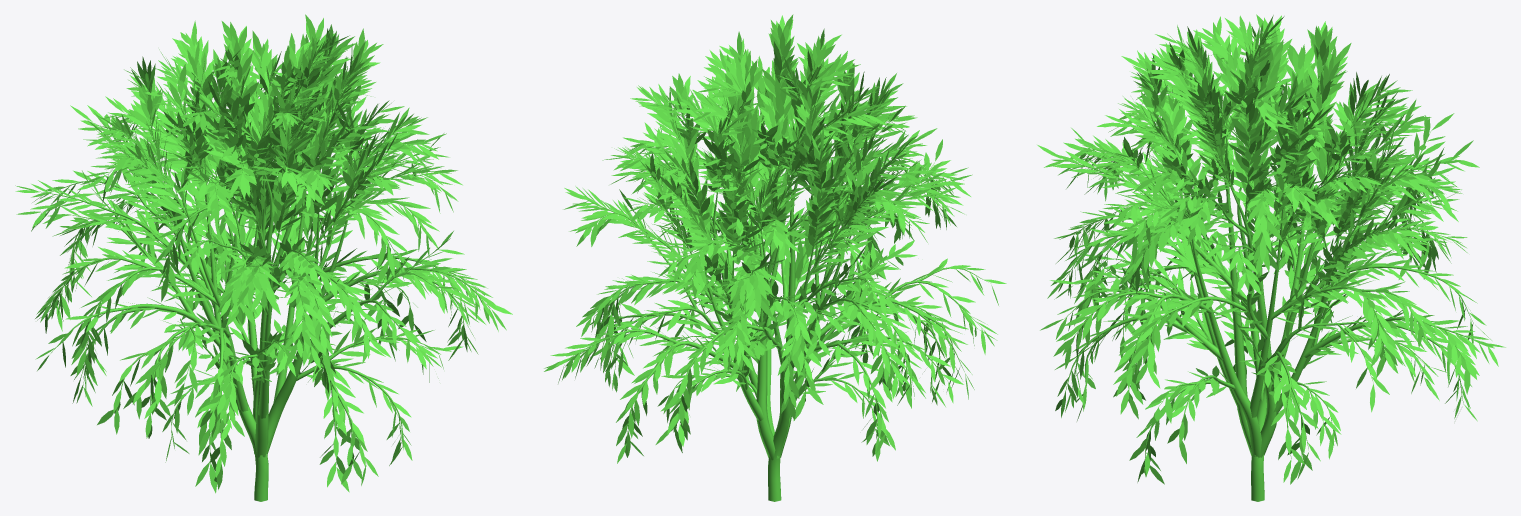
3 renders of one model, left to right at view 1: azimuth 30°, elevation 25°; view 2: azimuth 150°, elevation 25°; view 3: azimuth 270°, elevation 25°, orthographic. The views are drawn at different scales.
Visible parts, largest first — view 1: tree; view 2: tree; view 3: tree.
Part boxes in pixels (box(x1,y1,x2,y2)): tree: box(15, 14, 512, 501); tree: box(544, 14, 1006, 501); tree: box(1037, 14, 1505, 501).
Size of the model in its own units: 5.78 by 6.82 by 6.05.
